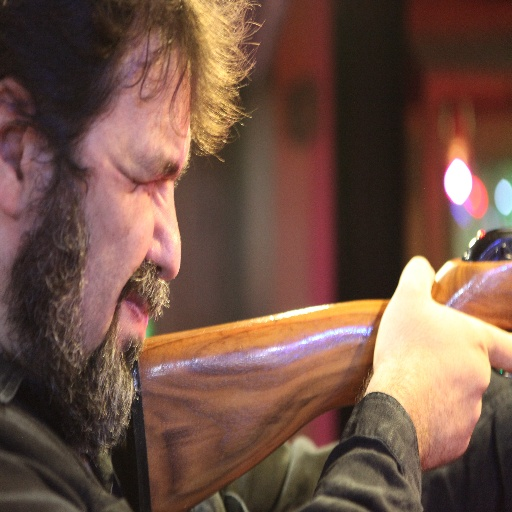hand: (356, 254, 498, 476)
